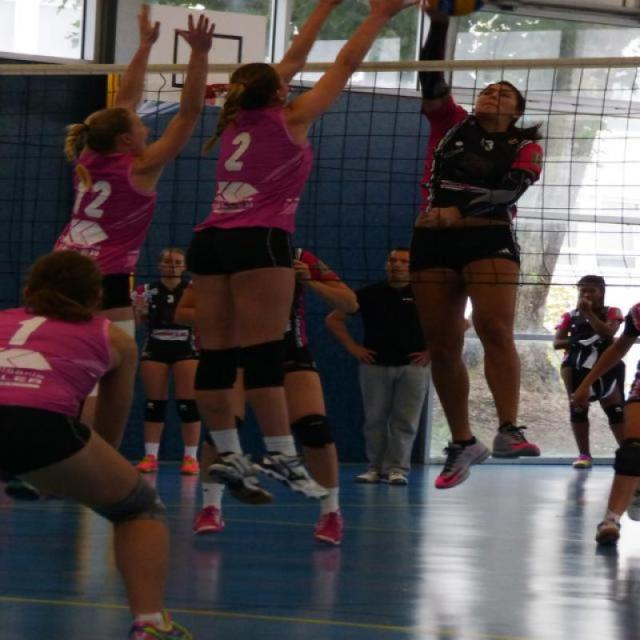volleyball: (418, 0, 487, 17)
